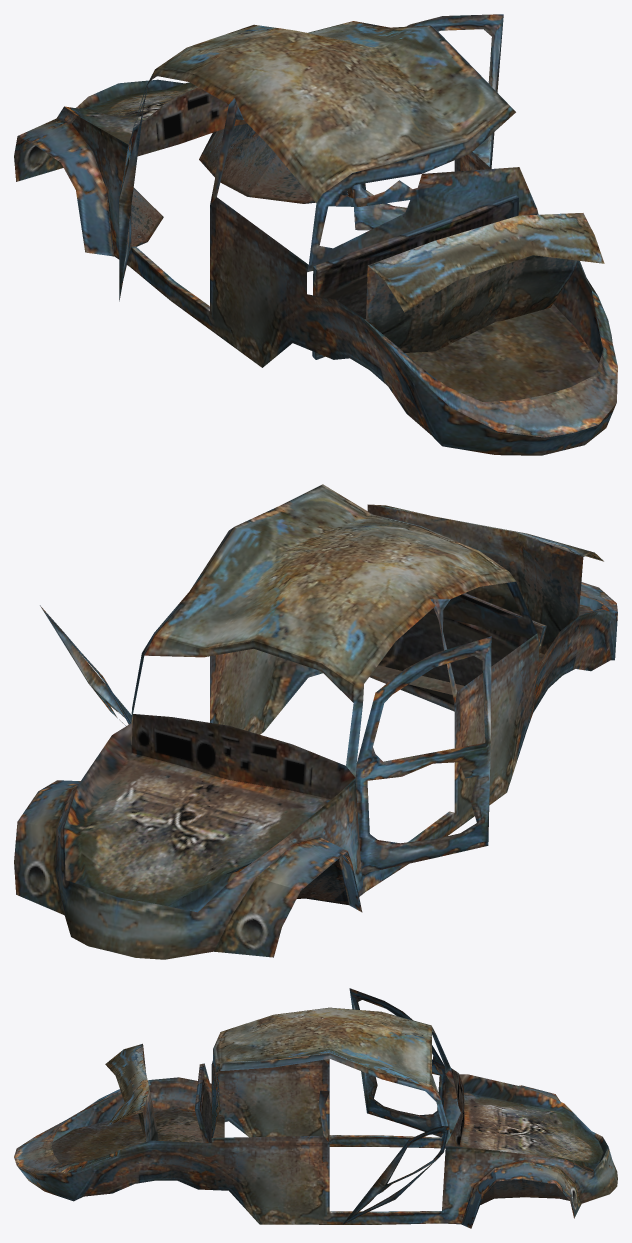
Rendered from OldBeetle.FBX.
3 renders of one model, top to bottom at view 1: azimuth 30°, elevation 25°; view 2: azimuth 150°, elevation 25°; view 3: azimuth 270°, elevation 25°, orthographic. The views are drawn at different scales.
Parts seen in each view (by area): view 1: OldBeetle; view 2: OldBeetle; view 3: OldBeetle.
Boxes of the visible parts, box(x1,y1,x2,y2) form: OldBeetle: box(14, 14, 617, 455); OldBeetle: box(14, 484, 617, 959); OldBeetle: box(14, 988, 617, 1228).
Size of the model in its own units: 394 by 227 by 756.
Materials: 1 (1 with a texture image).
